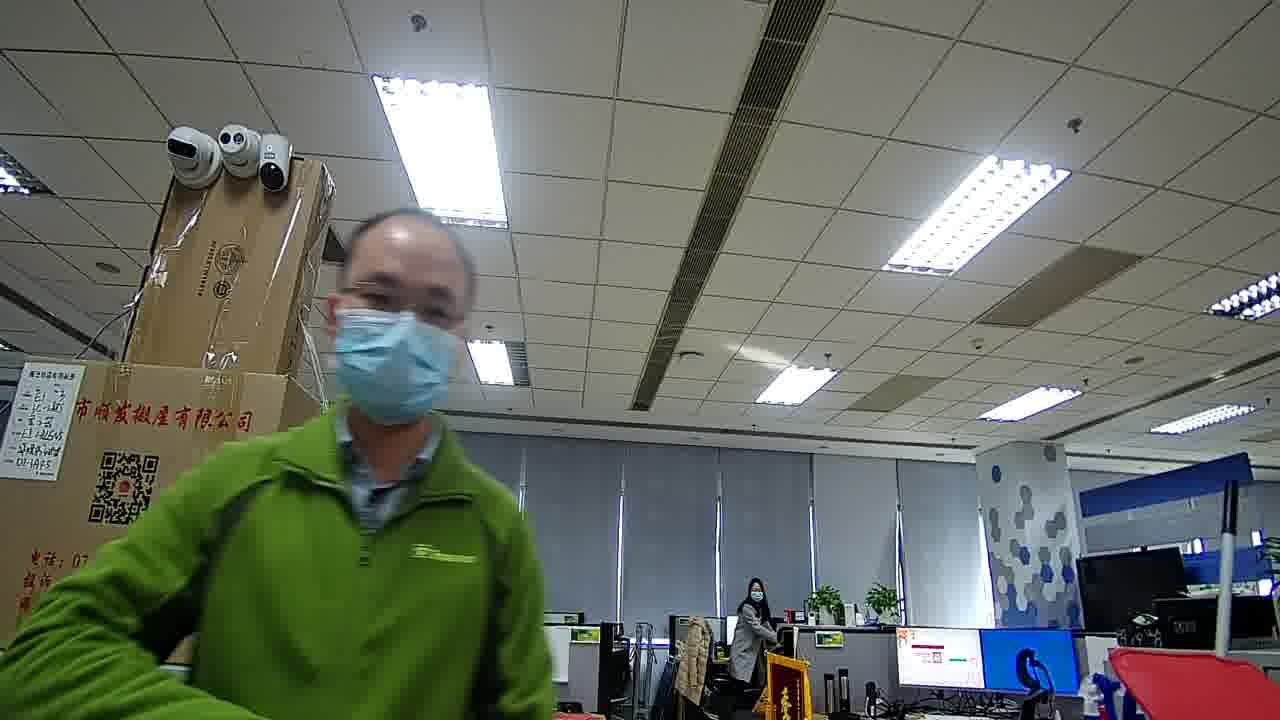face: (332, 214, 473, 428), (748, 581, 765, 604)
mask: (334, 306, 468, 424)
person: (139, 201, 539, 531)
